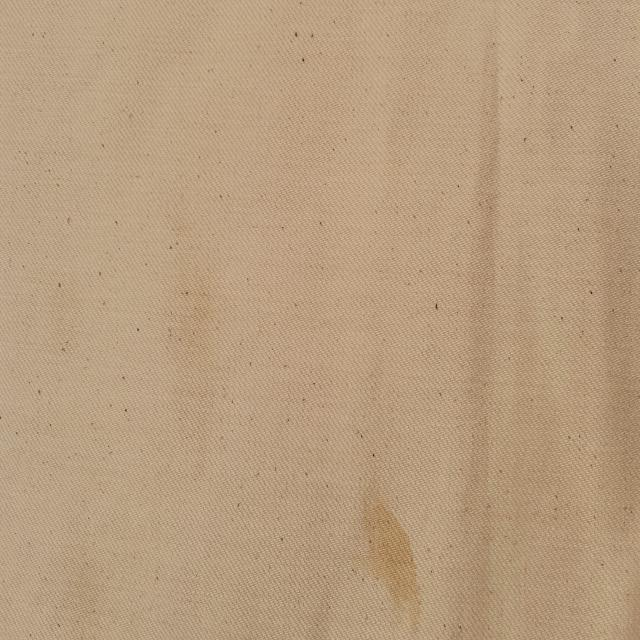taaaches: (352, 480, 426, 631)
